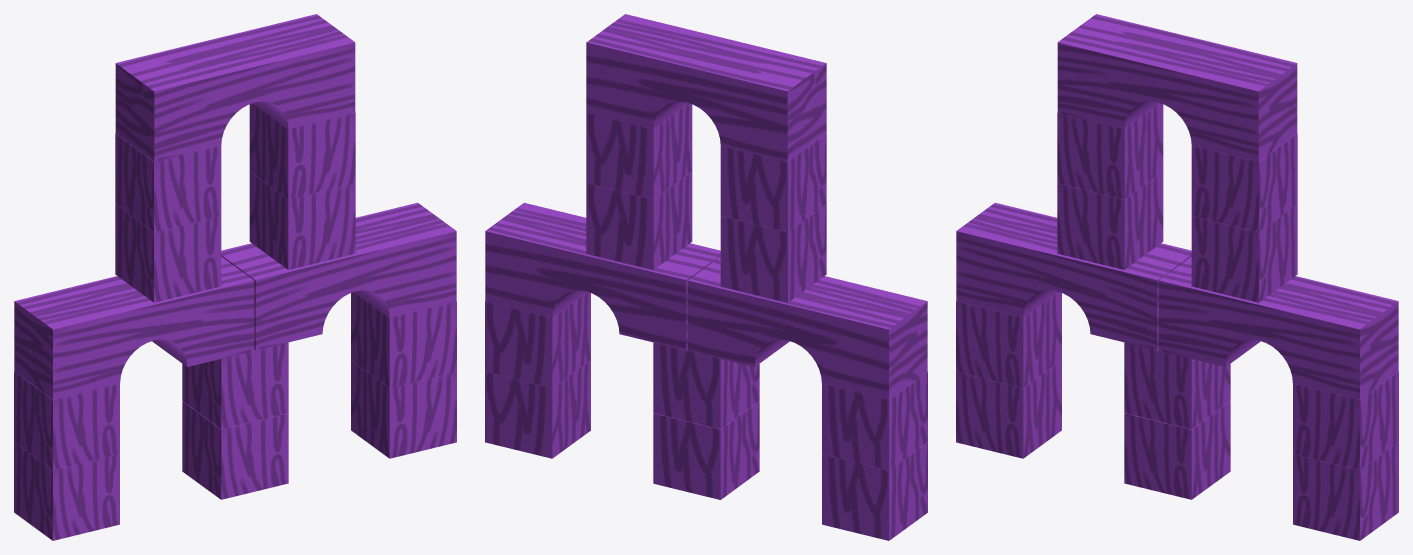
Rendered from Level2-3-TopPart.fbx.
3 renders of one model, left to right at view 1: azimuth 30°, elevation 25°; view 2: azimuth 150°, elevation 25°; view 3: azimuth 330°, elevation 25°, orthographic.
Parts seen in each view (by area): view 1: Cube.001, Cube.013, Cube.005, Cube.008, Cube.004, Cube.003, Cube, Cube.002, Cube.012, Cube.009, Cube.011, Cube.007 (+1 smaller); view 2: Cube.001, Cube.013, Cube.005, Cube.008, Cube.003, Cube.004, Cube, Cube.002, Cube.009, Cube.011, Cube.012, Cube.007 (+1 smaller); view 3: Cube.001, Cube.005, Cube.013, Cube.008, Cube.003, Cube.004, Cube.002, Cube, Cube.009, Cube.012, Cube.007, Cube.011 (+1 smaller).
Part boxes in pixels (<box>): Cube.001: <box>115,14,355,161</box>; Cube.013: <box>14,256,254,399</box>; Cube.005: <box>221,202,456,350</box>; Cube.008: <box>182,401,288,499</box>; Cube.004: <box>249,171,355,269</box>; Cube.003: <box>115,204,221,302</box>; Cube: <box>115,133,221,232</box>; Cube.002: <box>249,103,355,199</box>; Cube.012: <box>14,442,119,540</box>; Cube.009: <box>351,360,456,458</box>; Cube.011: <box>14,371,119,470</box>; Cube.007: <box>351,292,456,387</box>; Cube.001: <box>586,14,826,161</box>; Cube.013: <box>687,256,927,399</box>; Cube.005: <box>485,202,720,350</box>; Cube.008: <box>653,401,759,499</box>; Cube.003: <box>720,204,826,302</box>; Cube.004: <box>586,171,692,269</box>; Cube: <box>720,133,826,232</box>; Cube.002: <box>586,103,692,199</box>; Cube.009: <box>485,360,590,458</box>; Cube.011: <box>822,371,927,470</box>; Cube.012: <box>822,442,927,540</box>; Cube.007: <box>485,292,590,387</box>; Cube.001: <box>1057,14,1297,161</box>; Cube.005: <box>1158,256,1398,399</box>; Cube.013: <box>956,202,1191,350</box>; Cube.008: <box>1124,401,1230,499</box>; Cube.003: <box>1057,171,1163,269</box>; Cube.004: <box>1191,204,1297,302</box>; Cube.002: <box>1191,133,1297,232</box>; Cube: <box>1057,103,1163,199</box>; Cube.009: <box>1293,442,1398,540</box>; Cube.012: <box>956,360,1061,458</box>; Cube.007: <box>1293,371,1398,470</box>; Cube.011: <box>956,292,1061,387</box>.
Size of the model in its own units: 1202 by 1208 by 200.
